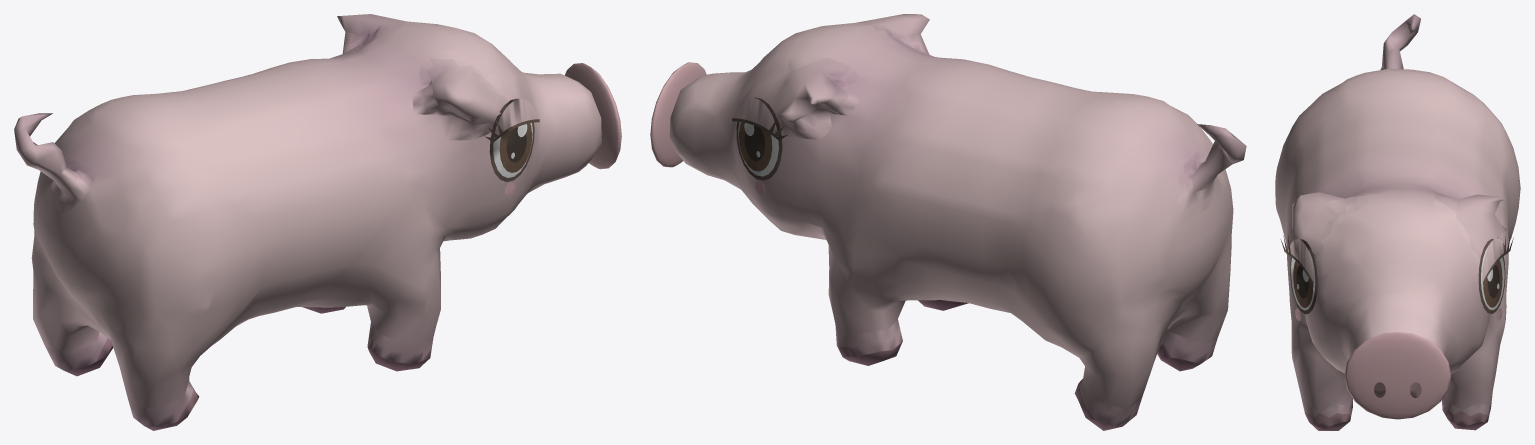
File: pig.glb
3 renders of one model, left to right at view 1: azimuth 30°, elevation 25°; view 2: azimuth 150°, elevation 25°; view 3: azimuth 270°, elevation 25°, orthographic. The views are drawn at different scales.
Visible parts, largest first — view 1: pig; view 2: pig; view 3: pig.
Boxes of the visible parts, x1,y1,x2,y2 form: pig: (14, 14, 621, 430); pig: (650, 14, 1246, 430); pig: (1275, 14, 1520, 430).
Bounding box in the file's own units: 0.8279 × 0.4105 × 0.3387.
